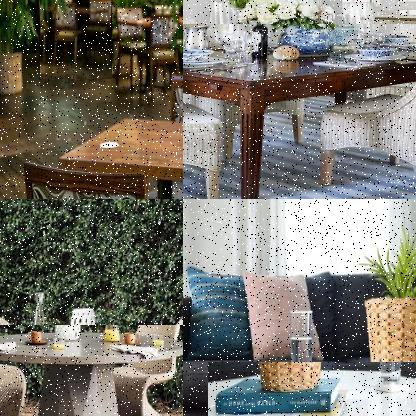table: (183, 24, 415, 198), (0, 325, 182, 415), (51, 112, 182, 198), (207, 362, 415, 415), (114, 4, 182, 116), (39, 0, 113, 81)
